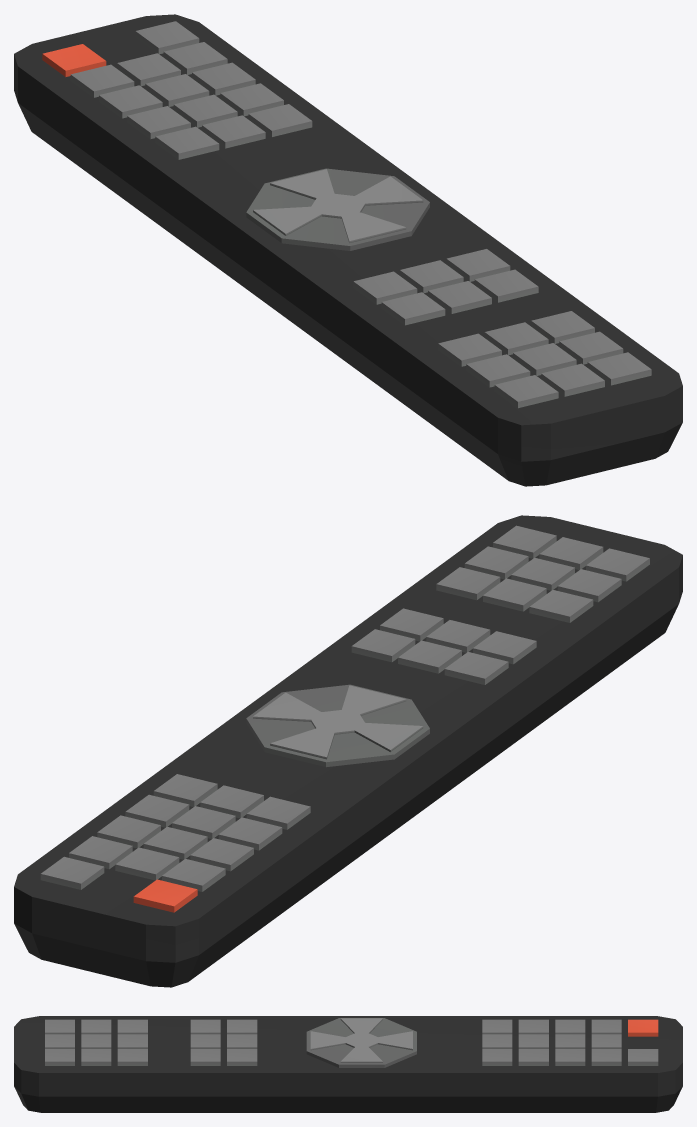
The model's file is TV_Remote.glb.
3 views of the same model, one above another, from view 1: azimuth 30°, elevation 25°; view 2: azimuth 150°, elevation 25°; view 3: azimuth 270°, elevation 25° (orthographic). The views are drawn at different scales.
Visible parts, largest first — view 1: TV Remote; view 2: TV Remote; view 3: TV Remote.
Part boxes in pixels (x1,y1,x2,y2): TV Remote: [14, 14, 682, 486]; TV Remote: [14, 515, 682, 987]; TV Remote: [14, 1016, 682, 1112].
Bounding box in the file's own units: 0.0952 × 0.0439 × 0.472.
1 material, 1 textured.
